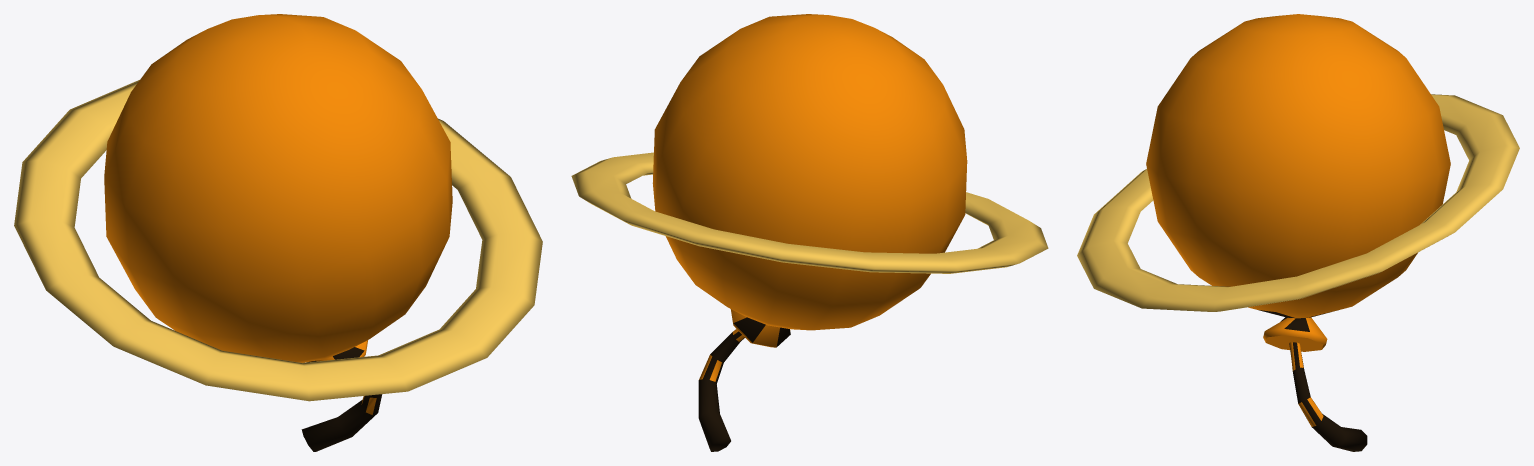
The model's file is balloon.fbx.
The picture shows the model from 3 angles, left to right: view 1: azimuth 30°, elevation 25°; view 2: azimuth 150°, elevation 25°; view 3: azimuth 270°, elevation 25°; orthographic projection. The views are drawn at different scales.
Visible parts, largest first — view 1: balloon2, balloon3; view 2: balloon2, balloon3; view 3: balloon2, balloon3.
Part boxes in pixels (<box>): balloon2: <box>104,14,452,451</box>; balloon3: <box>14,80,542,401</box>; balloon2: <box>652,14,967,451</box>; balloon3: <box>571,152,1048,273</box>; balloon2: <box>1146,14,1450,451</box>; balloon3: <box>1077,94,1519,311</box>.
Size of the model in its own units: 103 by 97.9 by 99.29.
